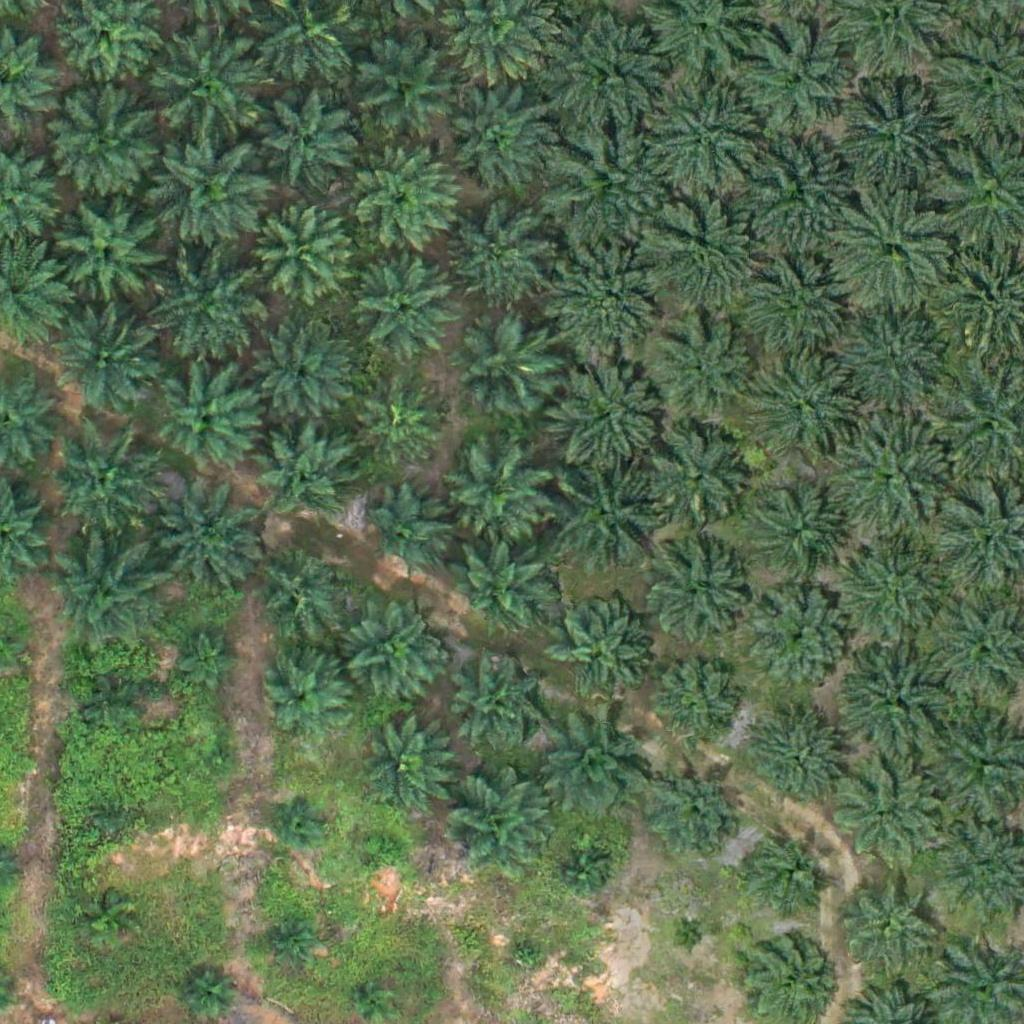Kelapa_Sawit: (148, 132, 273, 258), (433, 73, 558, 199), (550, 14, 675, 140), (550, 125, 675, 251), (834, 85, 959, 211), (547, 234, 672, 360), (638, 199, 763, 325), (831, 638, 956, 764), (828, 531, 953, 657), (828, 409, 953, 535), (830, 189, 955, 315), (645, 77, 770, 202), (542, 351, 667, 476), (831, 313, 944, 427), (49, 87, 162, 200), (151, 483, 264, 596), (149, 253, 262, 366), (742, 20, 855, 133), (551, 462, 664, 575), (542, 711, 655, 824), (151, 29, 263, 143), (348, 147, 460, 261), (50, 427, 162, 540), (46, 535, 158, 648), (831, 761, 943, 874), (449, 535, 549, 636), (344, 604, 444, 705), (255, 328, 355, 429), (255, 422, 355, 523), (248, 541, 348, 642), (156, 368, 256, 469), (60, 204, 160, 305), (53, 301, 153, 402), (550, 602, 650, 703), (647, 550, 747, 651), (645, 429, 745, 530), (650, 317, 750, 418), (758, 359, 858, 460), (751, 588, 851, 689), (747, 713, 847, 814), (833, 867, 933, 968), (736, 822, 836, 923), (449, 776, 549, 877), (262, 85, 362, 185), (352, 39, 452, 139), (449, 211, 549, 311), (457, 319, 557, 419), (445, 445, 545, 545), (356, 261, 456, 361), (253, 206, 353, 306), (739, 252, 839, 352), (352, 716, 452, 816), (749, 139, 848, 239), (364, 489, 452, 577), (357, 381, 445, 469), (451, 659, 539, 747), (754, 493, 842, 581), (262, 656, 349, 745), (651, 767, 738, 856), (650, 660, 737, 748), (178, 624, 240, 687), (82, 893, 132, 944), (557, 844, 607, 895), (89, 682, 139, 732), (263, 918, 313, 968), (276, 795, 326, 845), (366, 830, 404, 868), (357, 981, 395, 1019), (509, 937, 547, 975), (671, 918, 709, 956), (95, 797, 132, 835), (200, 742, 237, 780)
